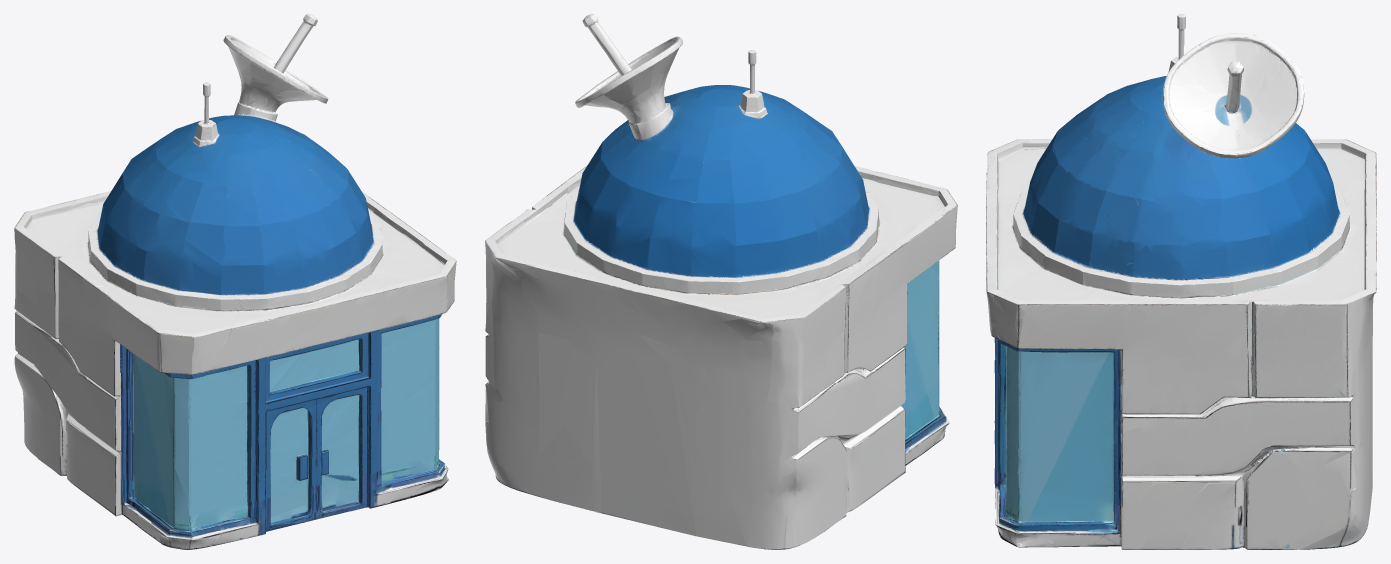
Rendered from lab.glb.
3 views of the same model, side by side, from view 1: azimuth 30°, elevation 25°; view 2: azimuth 150°, elevation 25°; view 3: azimuth 270°, elevation 25° (orthographic). The views are drawn at different scales.
Size of the model in its own units: 1.46 by 1.9 by 1.46.
Materials: 1 (1 with a texture image).
